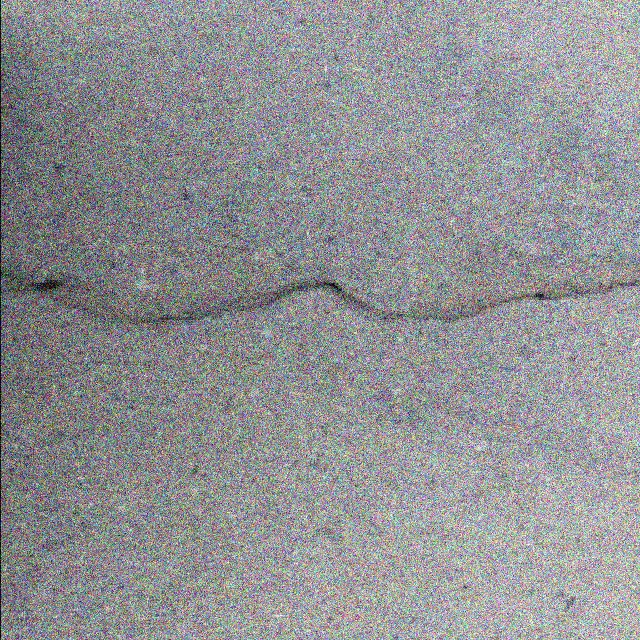SurfaceCrack: (2, 232, 640, 334)
